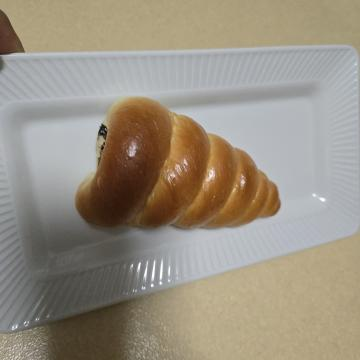cream horn: (90, 69, 242, 293)
